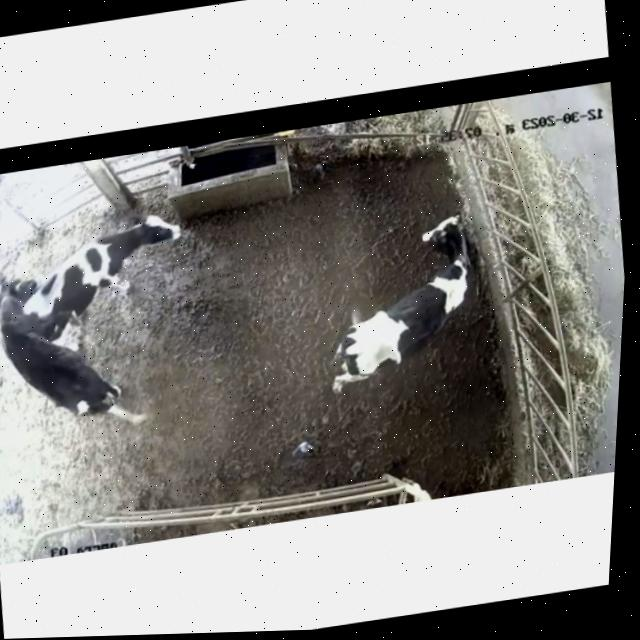propping: (0, 270, 62, 358)
